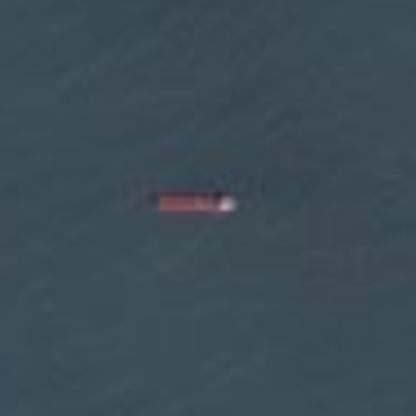ship: (150, 185, 246, 222)
